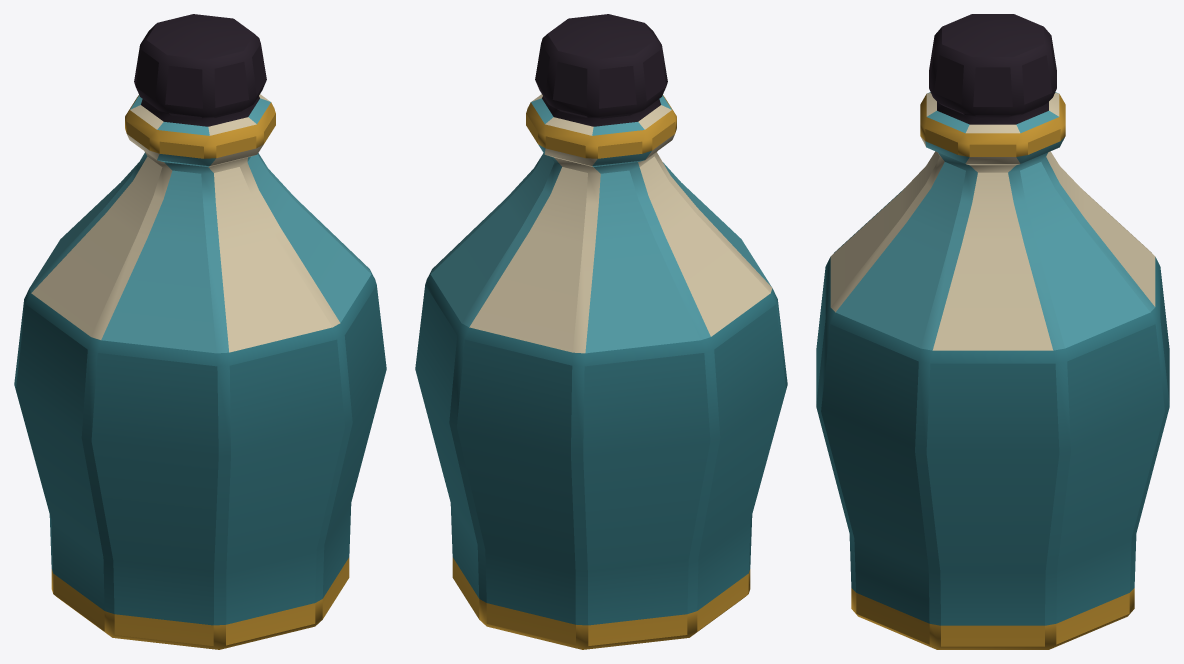
Rendered from Bottle_04.glb.
3 views of the same model, side by side, from view 1: azimuth 30°, elevation 25°; view 2: azimuth 150°, elevation 25°; view 3: azimuth 270°, elevation 25° (orthographic).
Visible parts, largest first — view 1: Bottle_04; view 2: Bottle_04; view 3: Bottle_04.
Part boxes in pixels (x1,y1,x2,y2): Bottle_04: [14, 14, 386, 649]; Bottle_04: [415, 14, 787, 649]; Bottle_04: [816, 14, 1169, 649].
Size of the model in its own units: 1.3 by 2.3 by 1.3.
